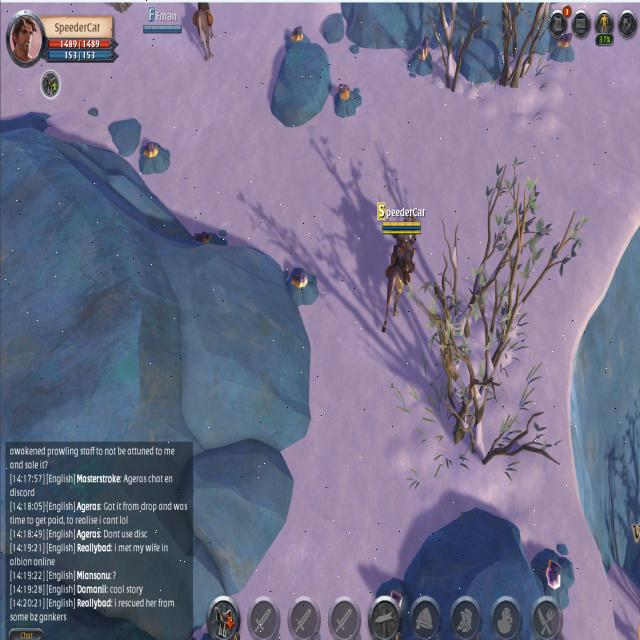copper: (530, 541, 574, 611), (283, 262, 320, 312), (404, 33, 436, 82), (137, 137, 172, 178), (331, 80, 365, 119), (550, 24, 579, 68), (190, 219, 220, 253), (284, 22, 312, 57)
